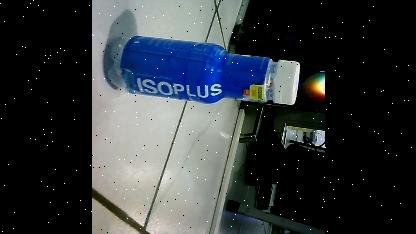Plastic Bottle: (108, 34, 304, 105)
